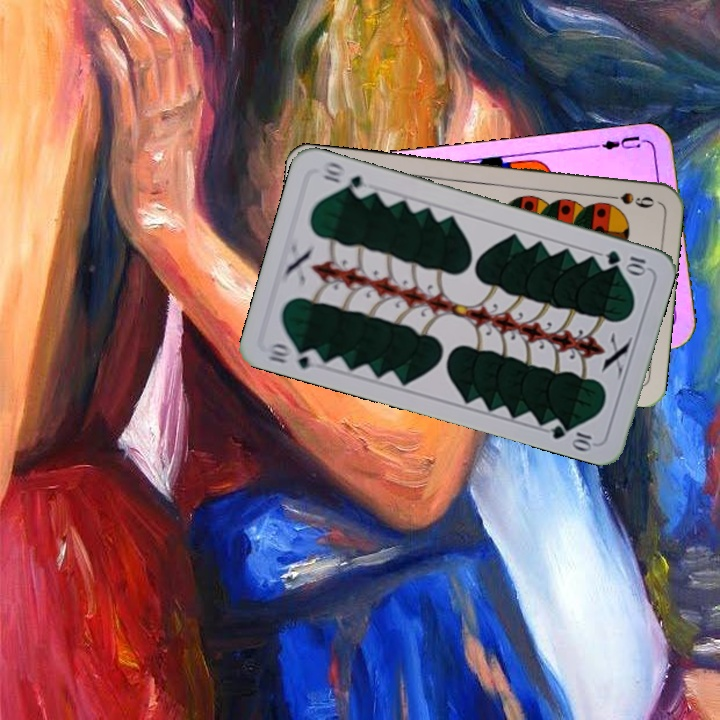EU: (591, 131, 651, 153)
G10: (263, 339, 323, 372), (601, 246, 650, 276)
S9: (599, 188, 657, 211)
